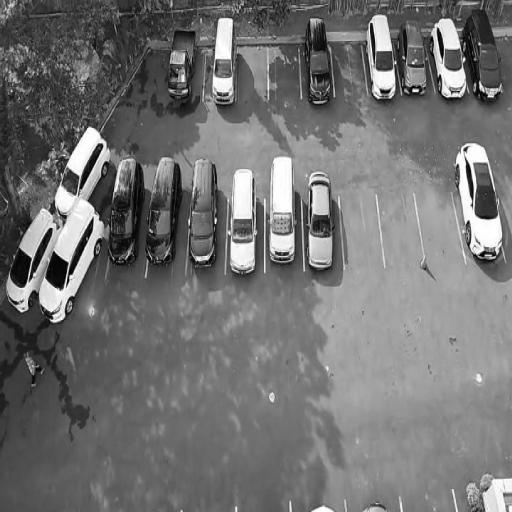Car: (25, 194, 108, 331), (449, 138, 507, 273), (0, 201, 64, 319), (48, 117, 115, 216), (457, 7, 511, 105), (107, 152, 145, 273), (144, 151, 181, 271), (186, 152, 220, 272), (426, 14, 471, 101), (302, 166, 338, 274), (362, 11, 399, 112), (227, 162, 259, 278), (267, 151, 298, 265), (394, 11, 431, 100), (161, 22, 200, 104), (302, 12, 334, 110), (212, 10, 236, 112)
Space Available: (377, 192, 426, 266), (415, 191, 466, 262), (338, 194, 385, 267), (331, 40, 368, 95), (235, 42, 268, 103), (268, 44, 300, 102), (399, 487, 458, 512)
